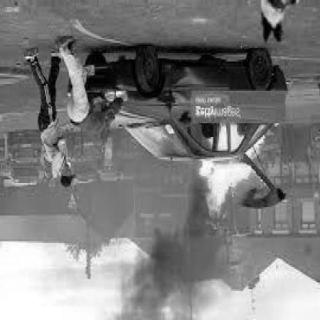Smoke: (117, 176, 227, 320)
